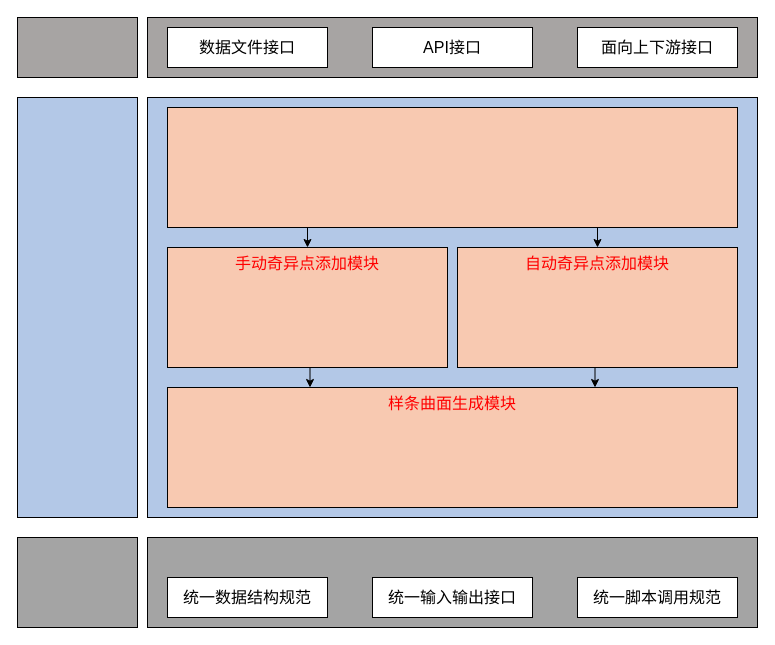
The diagram is 775 pixels wide and 645 high, and some of its shapes have lost their labels. Here are the shapes that lost their labels. From the top down, the box of each, then its label:
(16, 16, 138, 78): 接口层
(166, 106, 738, 228): 三角形网格生成模块
(16, 96, 138, 518): 算 法 模 块 核 心 层
(16, 536, 138, 628): 基础 架构层
(146, 536, 758, 628): 基于子虔平台基础架构
